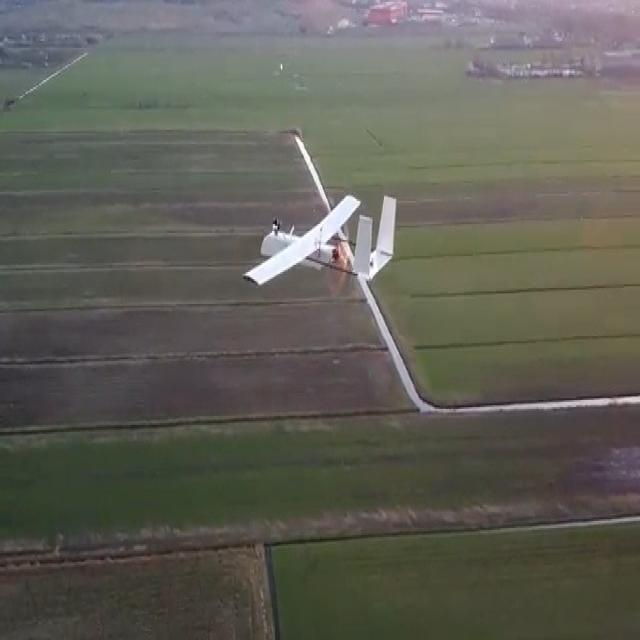drones: (242, 185, 399, 298)
